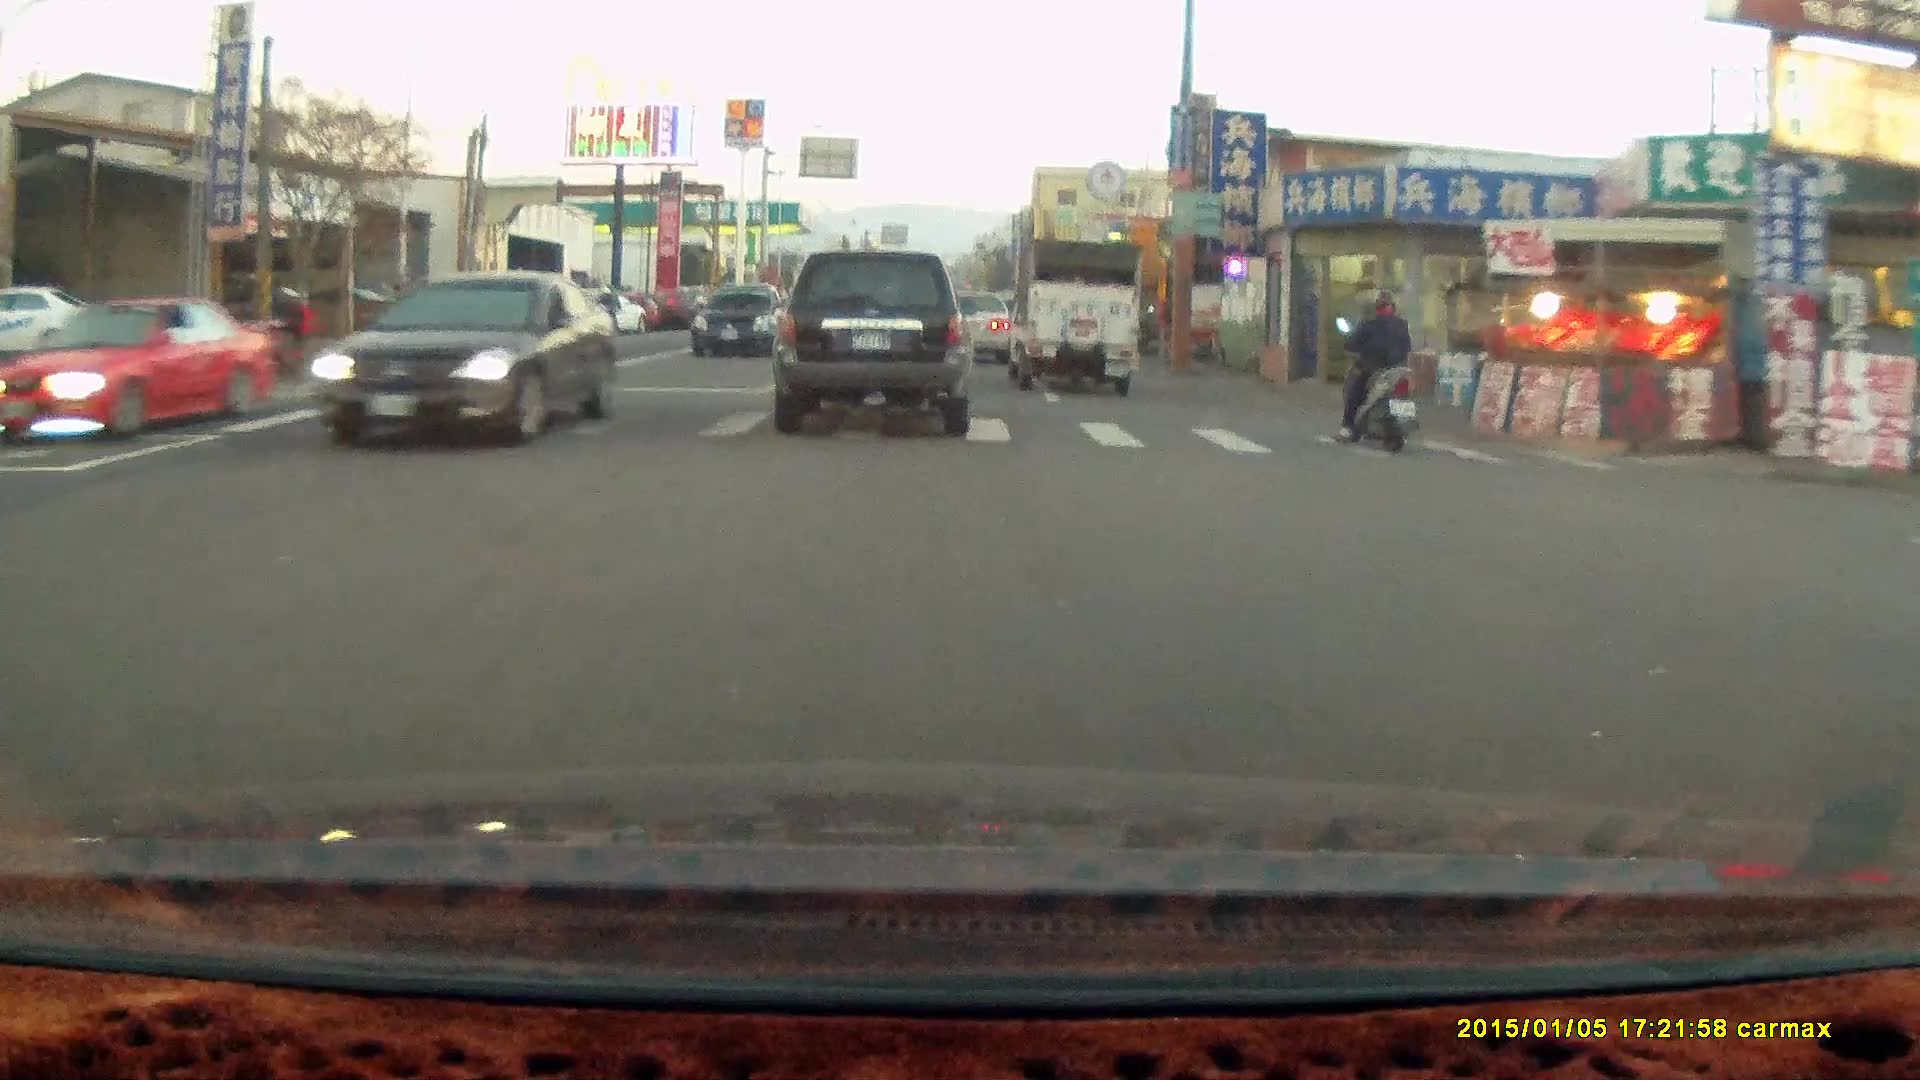rider: (1330, 288, 1421, 454), (249, 279, 309, 379)
vehicle: (311, 275, 620, 449), (1, 302, 284, 445), (770, 254, 978, 443), (1004, 236, 1143, 398), (1, 287, 128, 366), (690, 284, 787, 358), (934, 289, 1011, 364), (951, 288, 1022, 363)
